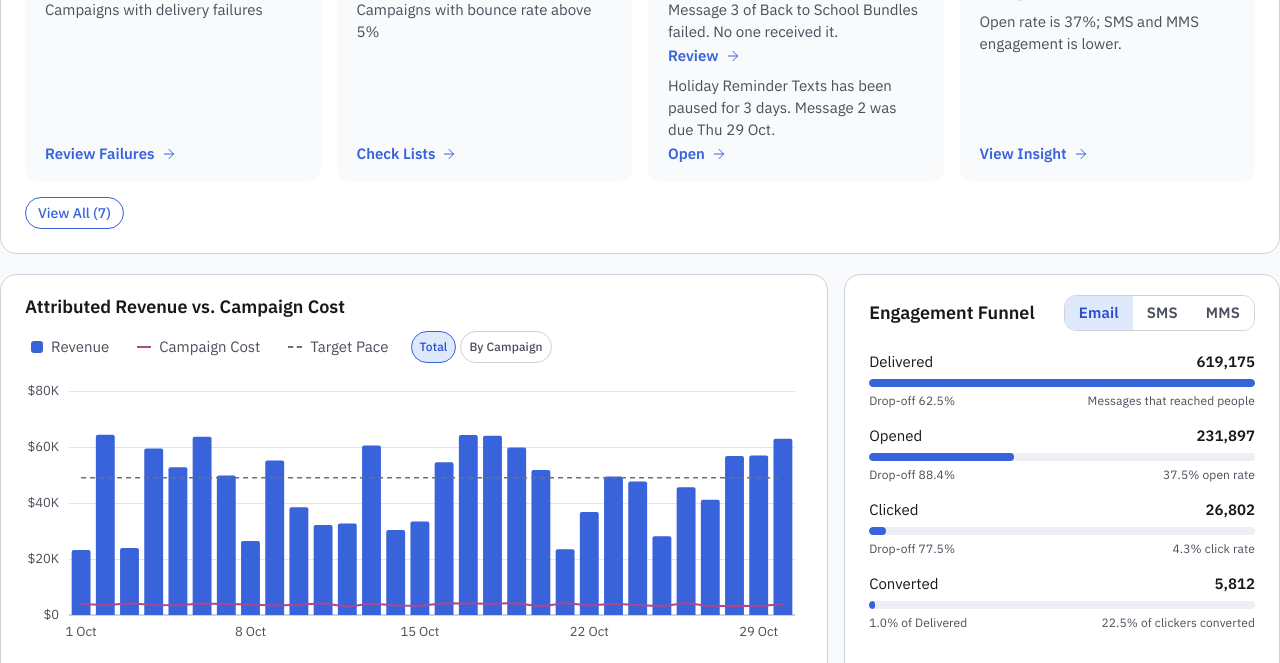
Scenario: By Campaign: a radio toggle to the top five and the others, each with its share; the legend goes, the insight stays
(page scrolled)
Click the radio button labelled "By Campaign": (506, 347) [460,331,552,363]
(page scrolled)
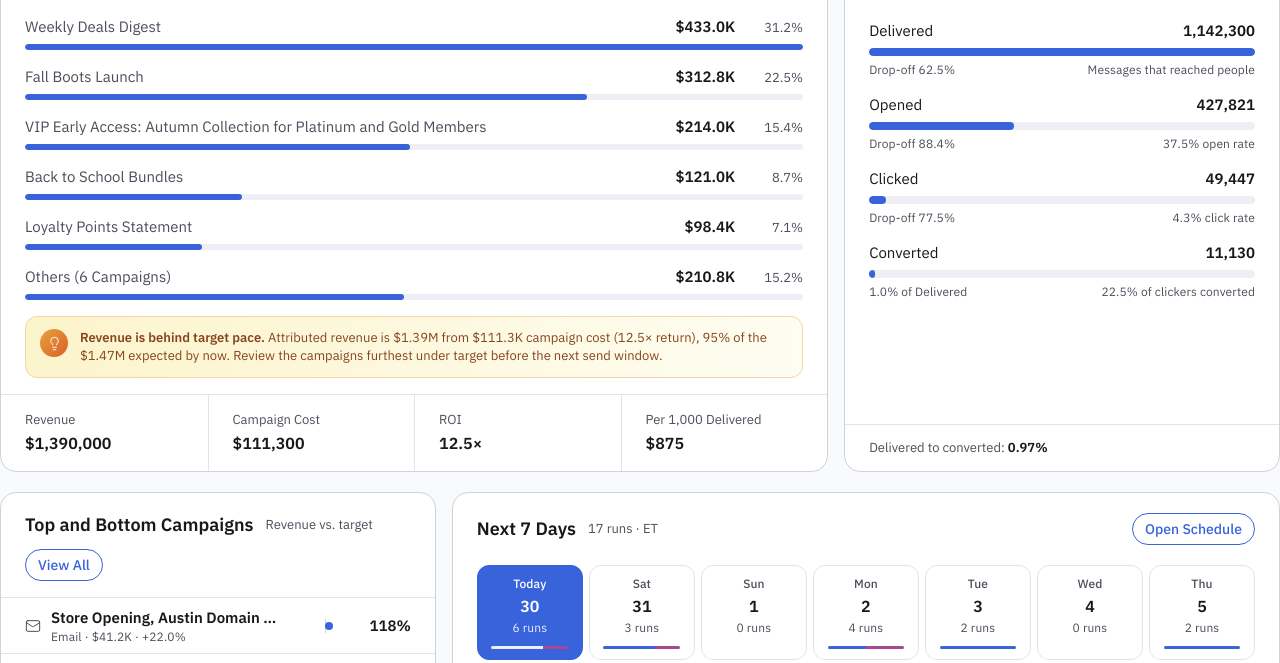
Expected: the list item "Weekly Deals Digest $433.0K 31.2%" is shown, [25,16,803,50]
Expected: the list item "Others (6 Campaigns) $210.8K 15.2%" is shown, [25,266,803,300]
Expected: the element "Series" is gone
